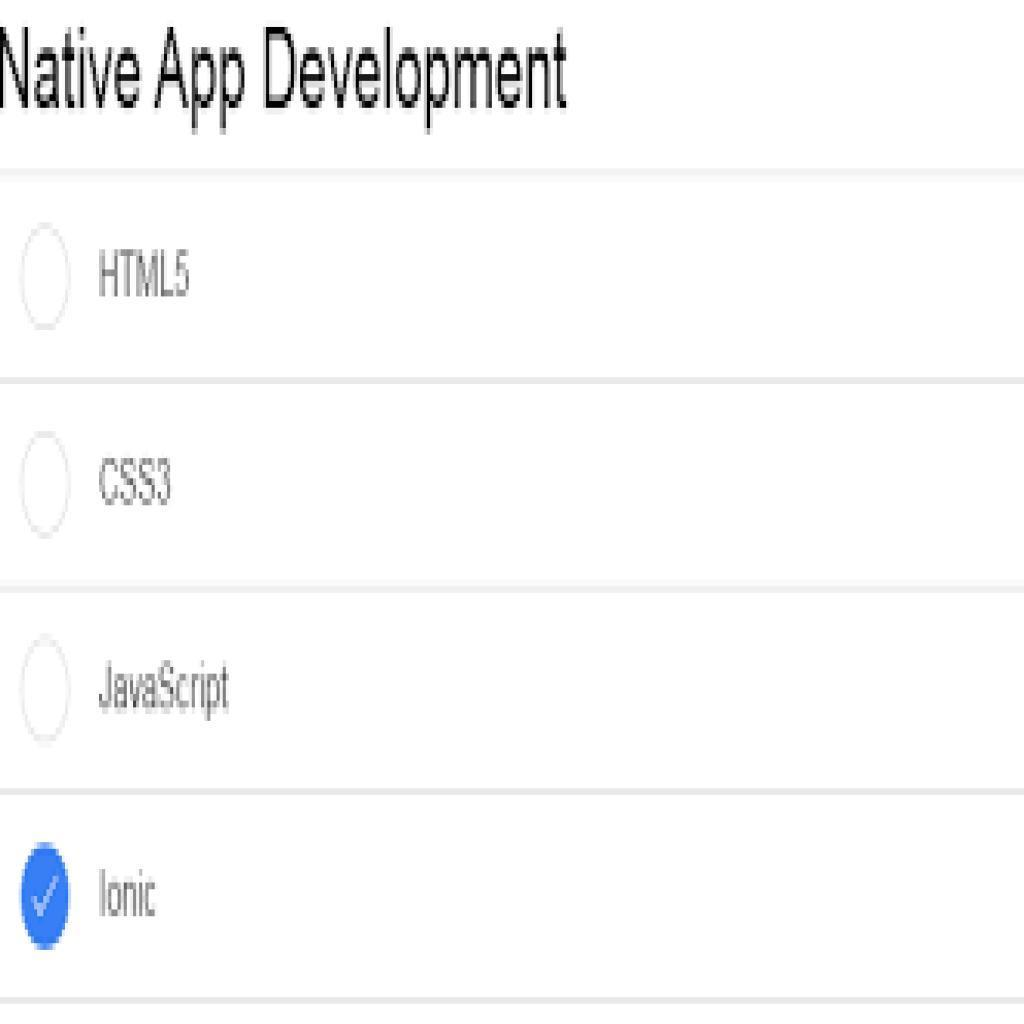radio: (12, 214, 77, 340), (16, 419, 77, 552), (13, 631, 78, 751), (22, 839, 70, 954)
